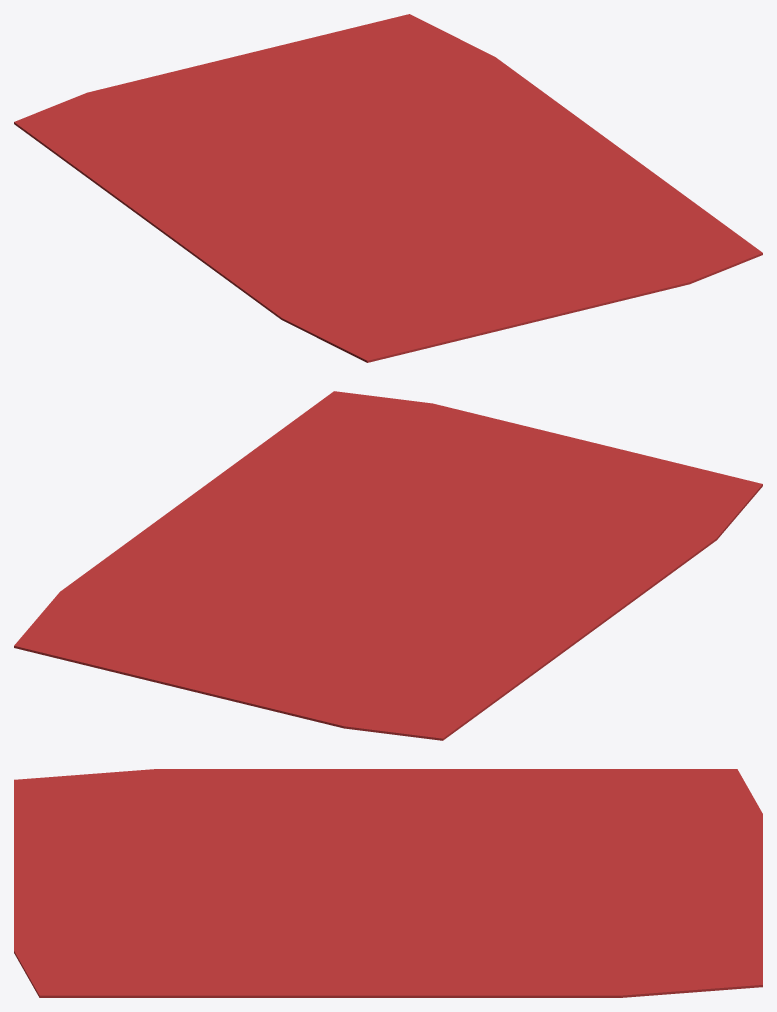
File: Carta_Dorso_Poker_Normal.glb
3 renders of one model, top to bottom at view 1: azimuth 30°, elevation 25°; view 2: azimuth 150°, elevation 25°; view 3: azimuth 270°, elevation 25°, orthographic. The views are drawn at different scales.
Parts seen in each view (by area): view 1: Carta_Dorso_Poker_Normal; view 2: Carta_Dorso_Poker_Normal; view 3: Carta_Dorso_Poker_Normal.
Boxes of the visible parts, <box> form: Carta_Dorso_Poker_Normal: <box>14,14,762,362</box>; Carta_Dorso_Poker_Normal: <box>14,391,762,740</box>; Carta_Dorso_Poker_Normal: <box>14,769,762,997</box>.
Size of the model in its own units: 0.063 by 0.0003 by 0.088.
